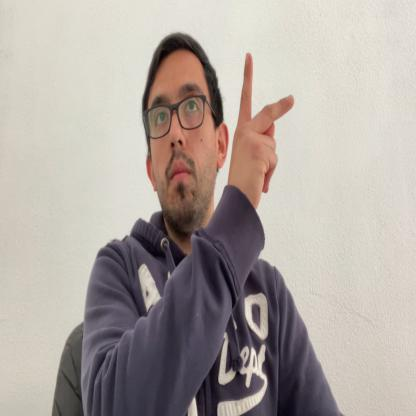P: (230, 51, 294, 208)
